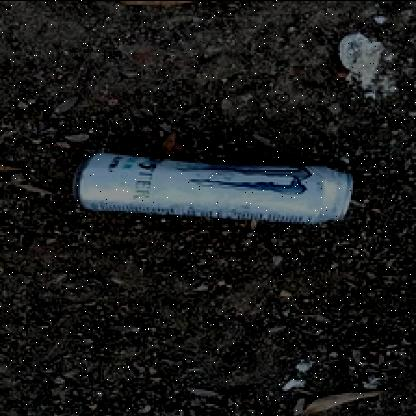Can: (74, 150, 353, 224)
